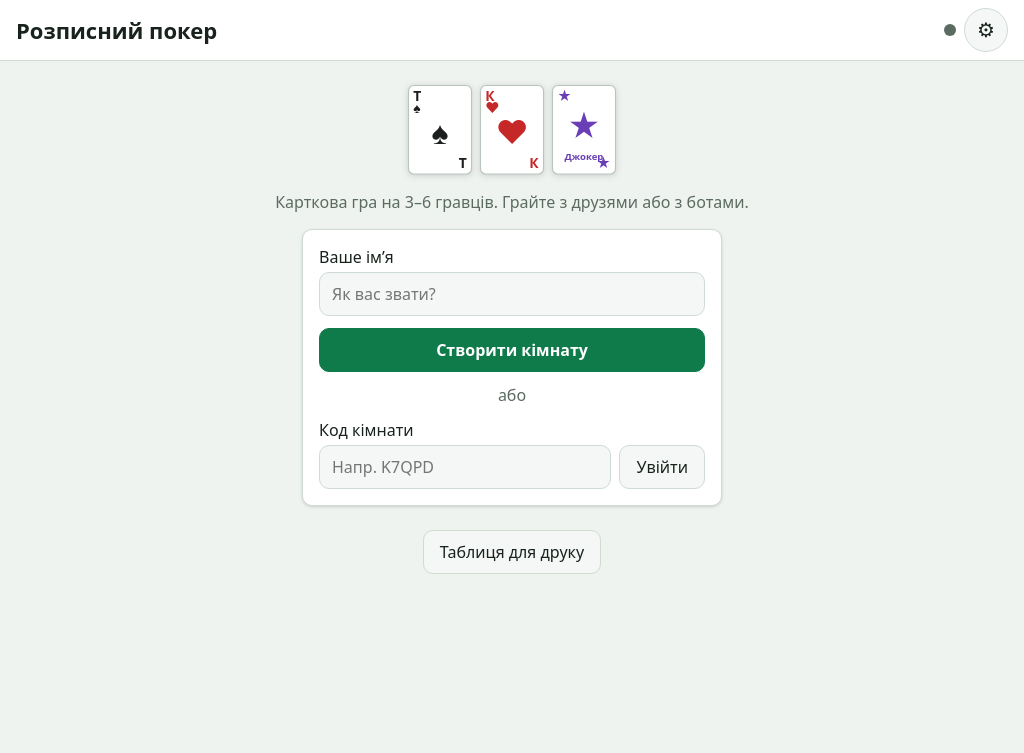
Test: кімната очікування › R-1.2: хост додає бота, а на 6 місцях кнопка вимкнена
The image size is (1024, 753).
Step 1. Type "Оля" into the field labelled "Ваше імʼя" → (512, 294), box [319, 272, 705, 316]
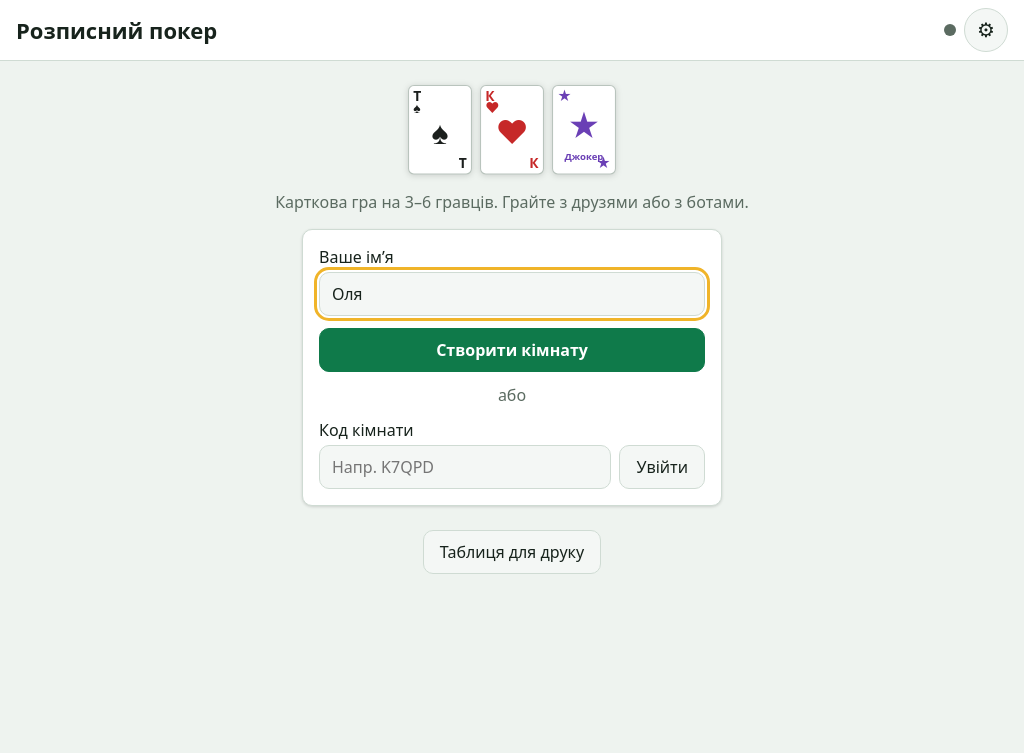
Step 2. Click the button "Створити кімнату" → (512, 350), box [319, 328, 705, 372]
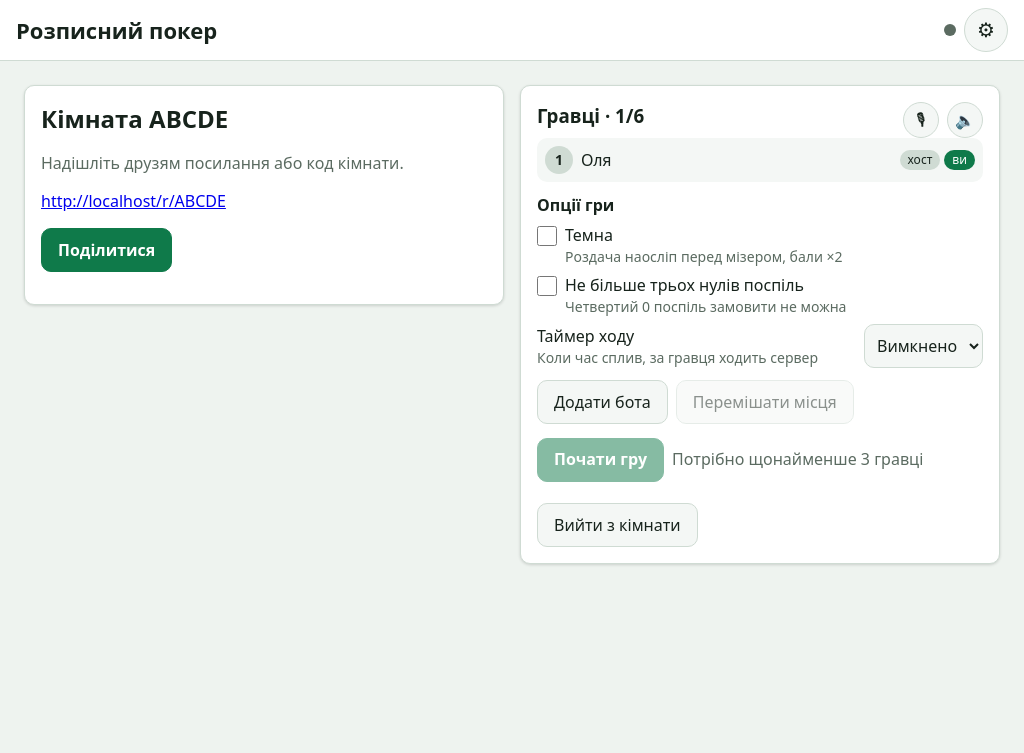
Step 3. Click the button "Додати бота" → (602, 402), box [537, 380, 668, 424]
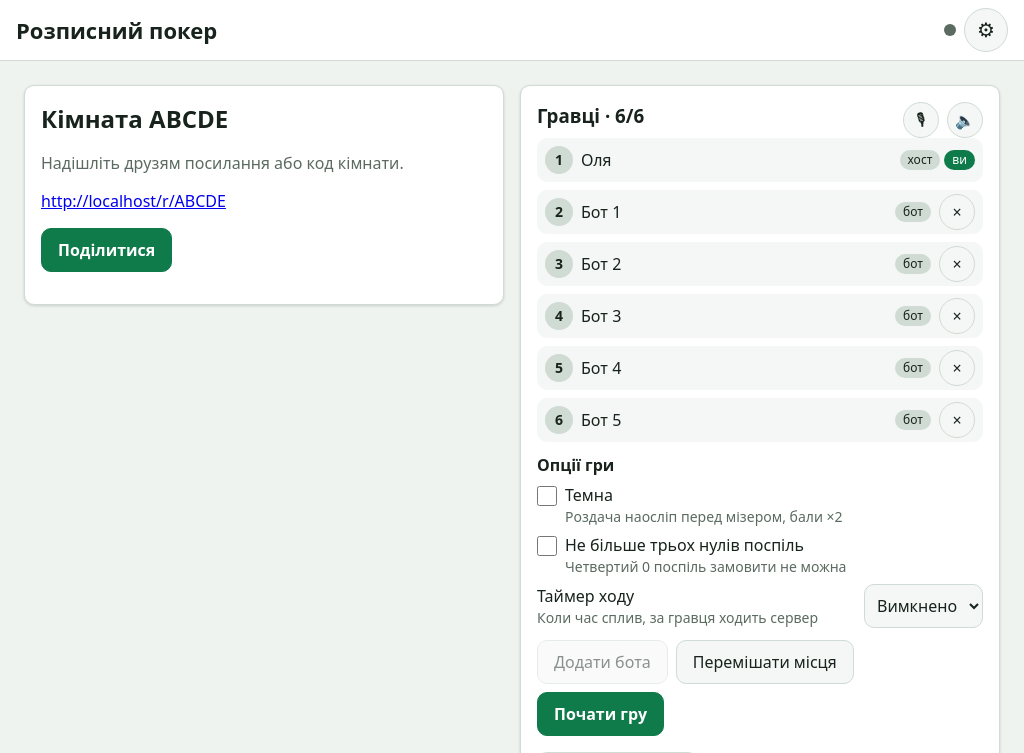
Expected: the button "Додати бота" is disabled, [537, 640, 668, 684]
